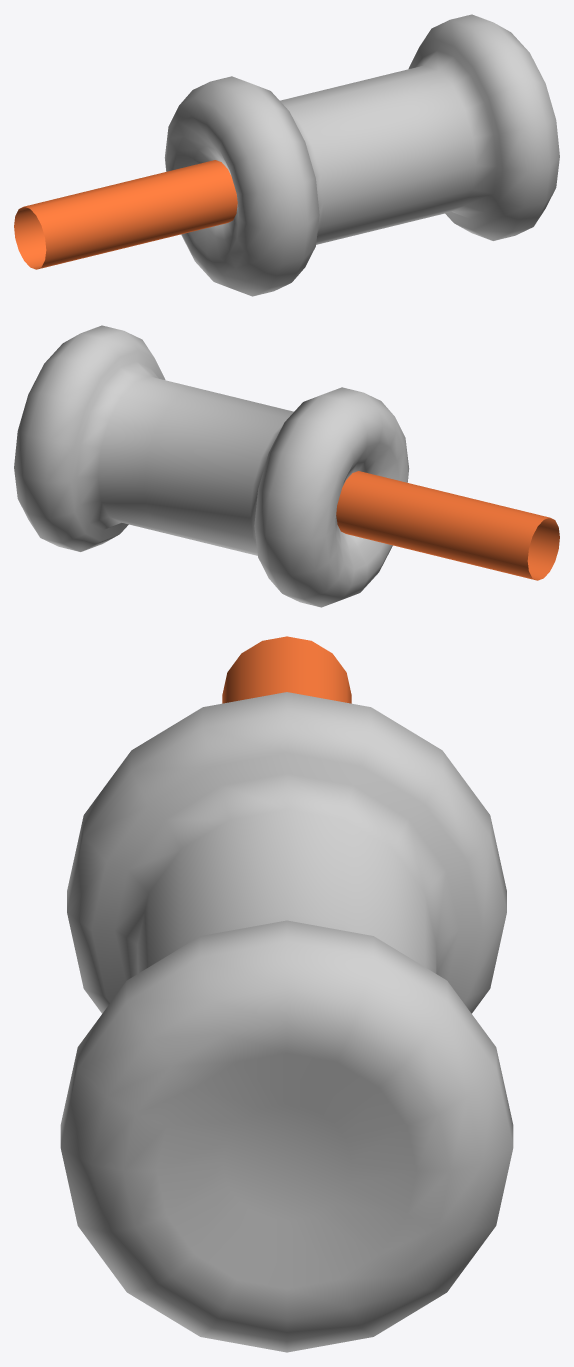
The model's file is SonicLeftArm.obj.
3 views of the same model, one above another, from view 1: azimuth 30°, elevation 25°; view 2: azimuth 150°, elevation 25°; view 3: azimuth 270°, elevation 25° (orthographic). The views are drawn at different scales.
Visible parts, largest first — view 1: Cylinder_2_2.001; view 2: Cylinder_2_2.001; view 3: Cylinder_2_2.001.
Part boxes in pixels (x1=…): Cylinder_2_2.001: x1=14, y1=14, x2=559, y2=296; Cylinder_2_2.001: x1=14, y1=325, x2=559, y2=607; Cylinder_2_2.001: x1=60, y1=636, x2=513, y2=1352.
Size of the model in its own units: 1.38 by 0.5551 by 0.5551.
